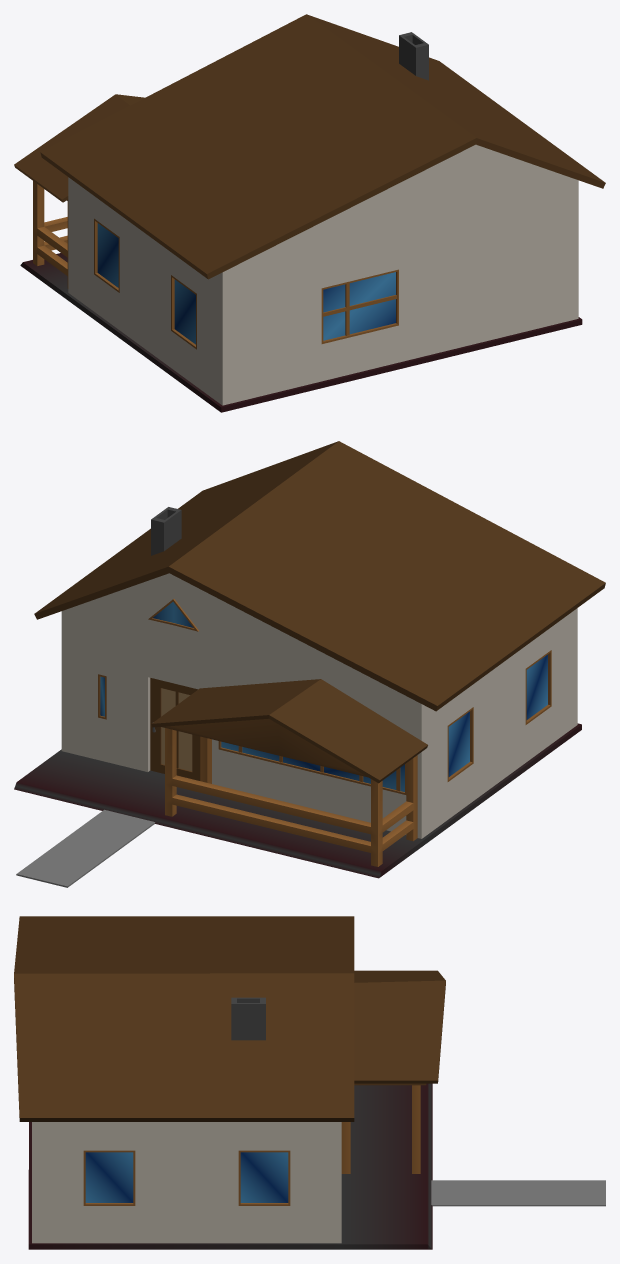
File: cottage_3.fbx
3 renders of one model, top to bottom at view 1: azimuth 30°, elevation 25°; view 2: azimuth 150°, elevation 25°; view 3: azimuth 270°, elevation 25°, orthographic.
Parts seen in each view (by area): view 1: cottage_3; view 2: cottage_3; view 3: cottage_3.
Part boxes in pixels (<box>): cottage_3: <box>14,14,605,412</box>; cottage_3: <box>14,441,605,887</box>; cottage_3: <box>14,916,605,1249</box>.
Bounding box in the file's own units: 11.95 × 15.29 × 6.29.
